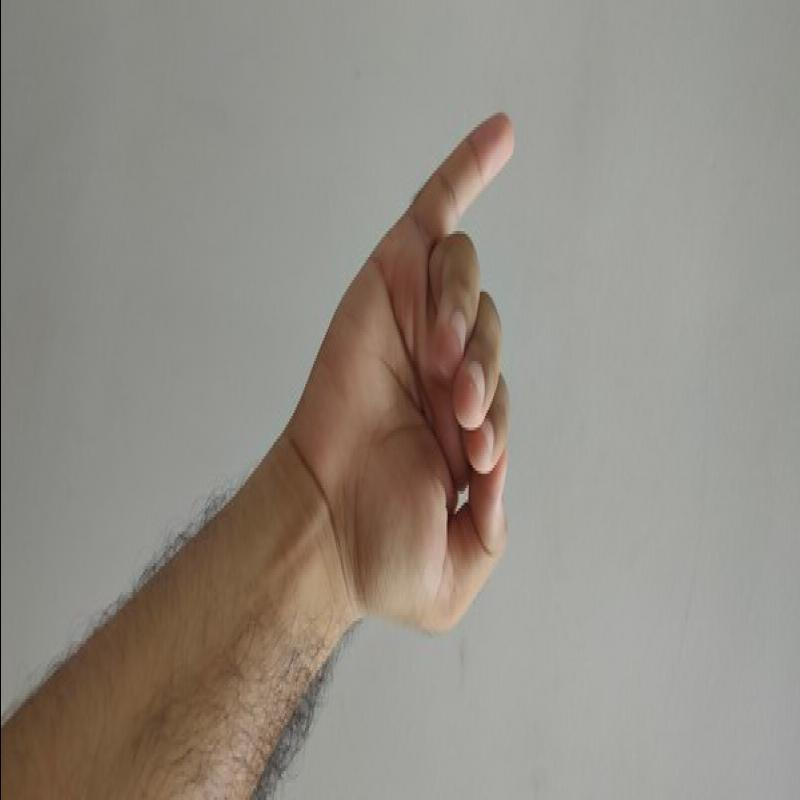Kartharee Mukham: (281, 94, 543, 648)
